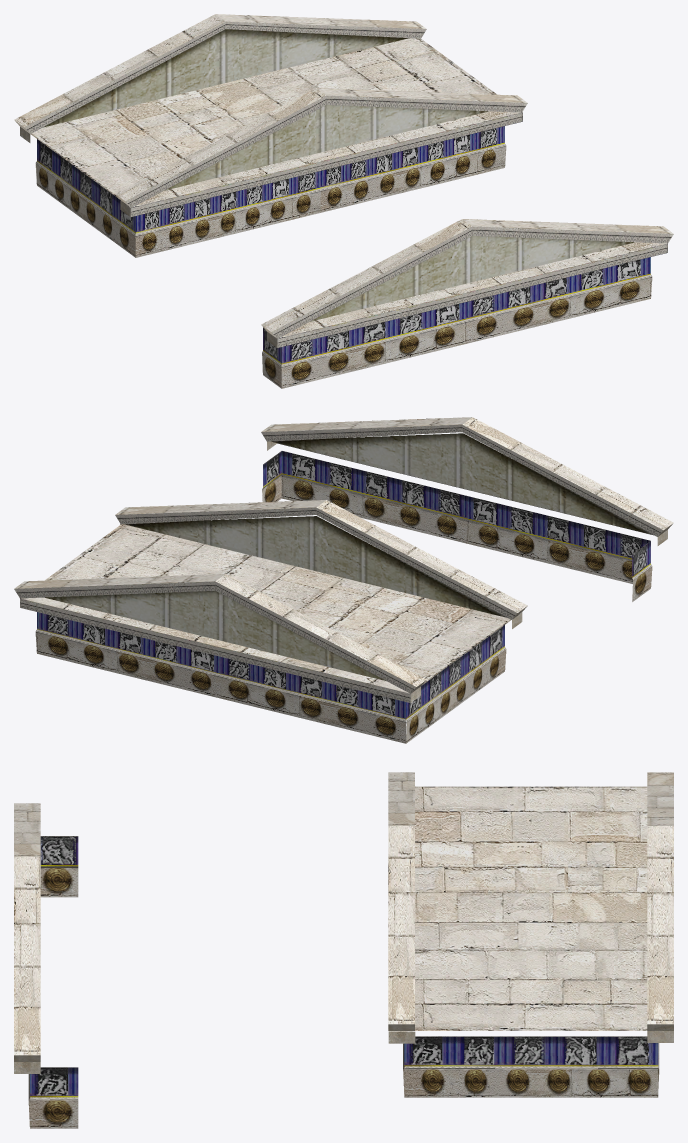
Rendered from propylaea.dae.
3 views of the same model, one above another, from view 1: azimuth 30°, elevation 25°; view 2: azimuth 150°, elevation 25°; view 3: azimuth 270°, elevation 25° (orthographic). The views are drawn at different scales.
Parts seen in each view (by area): view 1: parthenon_OBJ_002; view 2: parthenon_OBJ_002; view 3: parthenon_OBJ_002.
Boxes of the visible parts, x1,y1,x2,y2 form: parthenon_OBJ_002: [14, 14, 673, 388]; parthenon_OBJ_002: [14, 417, 673, 743]; parthenon_OBJ_002: [14, 772, 673, 1128].
Bounding box in the file's own units: 24.34 × 8.43 × 26.94.
